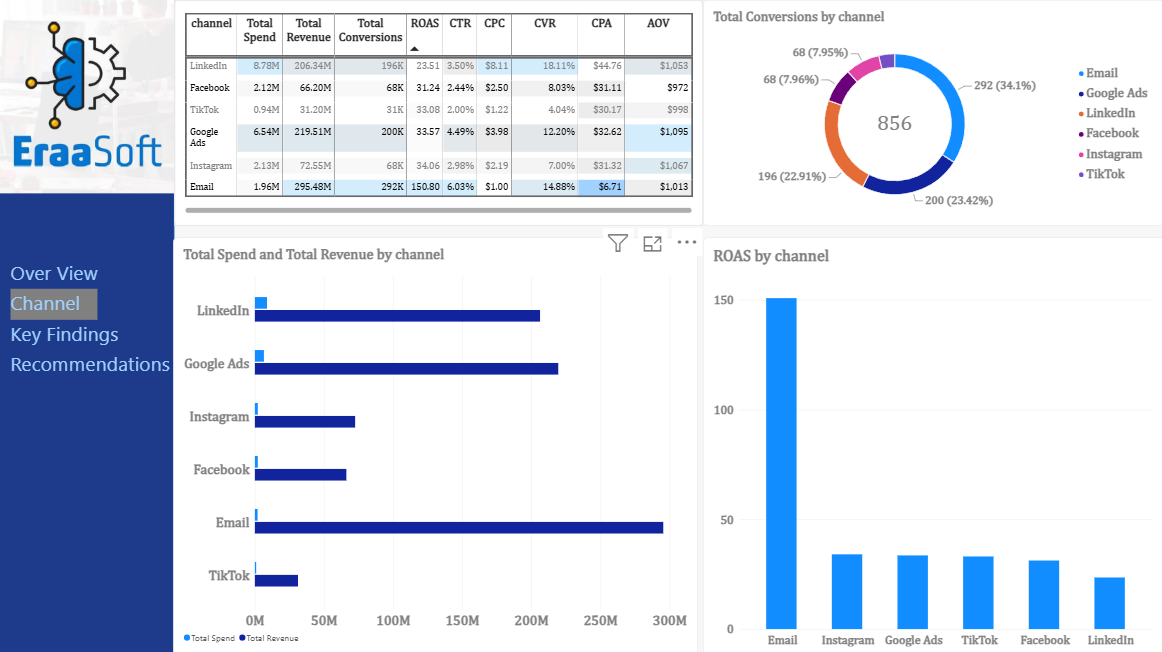

The dashboard page shown, as its layout file describes it:
{"tool":"powerbi","page":{"name":"Channel","canvas":[1920,1080],"ordinal":1},"visuals":[{"type":"shape","box":[0,0,290.2,1080.6],"z":0},{"type":"image","box":[0,0,290.8,318.6],"z":1000},{"type":"clusteredBarChart","fields":{"Category":["marketing-campaigns.channel"],"Y":["marketing-campaigns.Total Spend","marketing-campaigns.Total Revenue"]},"box":[288.6,391.3,863.8,690.6],"z":2000},{"type":"columnChart","fields":{"Category":["marketing-campaigns.channel"],"Y":["marketing-campaigns.ROAS"]},"box":[1161,391.3,759,690.6],"z":3000},{"type":"donutChart","fields":{"Category":["marketing-campaigns.channel"],"Y":["marketing-campaigns.Total Conversions"]},"box":[1161,0,759,372],"z":4000},{"type":"tableEx","fields":{"Values":["marketing-campaigns.channel","marketing-campaigns.Total Spend","marketing-campaigns.Total Revenue","marketing-campaigns.Total Conversions","marketing-campaigns.ROAS","marketing-campaigns.CTR","marketing-campaigns.CPC","marketing-campaigns.CVR","marketing-campaigns.CPA","marketing-campaigns.AOV"]},"box":[290.8,0,870.2,372],"z":5000},{"type":"textbox","box":[21.4,425.5,147.5,49.2],"z":6000},{"type":"textbox","box":[21.4,474.7,143.3,51.3],"z":7000},{"type":"textbox","box":[21.4,526,203.1,51.3],"z":8000},{"type":"textbox","box":[21.4,577.3,292.9,66.3],"z":9000},{"type":"actionButton","box":[20.6,426.1,144.1,39.1],"z":9001},{"type":"actionButton","box":[20.6,578.4,267.6,32.9],"z":9002},{"type":"actionButton","box":[20.6,531,203.8,45.3],"z":9003}]}

Visuals, with their boxes in screenshot pixels (x1, y1, x2, y2), scaled from the page's 1920x1080 canvas onto the 1162x652 screenshot:
shape: (0, 0, 176, 651)
image: (0, 0, 176, 192)
clusteredBarChart - marketing-campaigns.channel x marketing-campaigns.Total Spend: (175, 236, 697, 651)
columnChart - marketing-campaigns.channel x marketing-campaigns.ROAS: (703, 236, 1161, 651)
donutChart - marketing-campaigns.channel x marketing-campaigns.Total Conversions: (703, 0, 1161, 225)
tableEx - marketing-campaigns.channel x marketing-campaigns.Total Spend: (176, 0, 703, 225)
textbox: (13, 257, 102, 287)
textbox: (13, 287, 100, 318)
textbox: (13, 318, 136, 349)
textbox: (13, 349, 190, 389)
actionButton: (12, 257, 100, 281)
actionButton: (12, 349, 174, 369)
actionButton: (12, 321, 136, 348)
